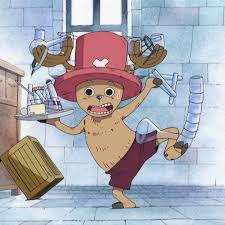chopper: (32, 31, 168, 118)
